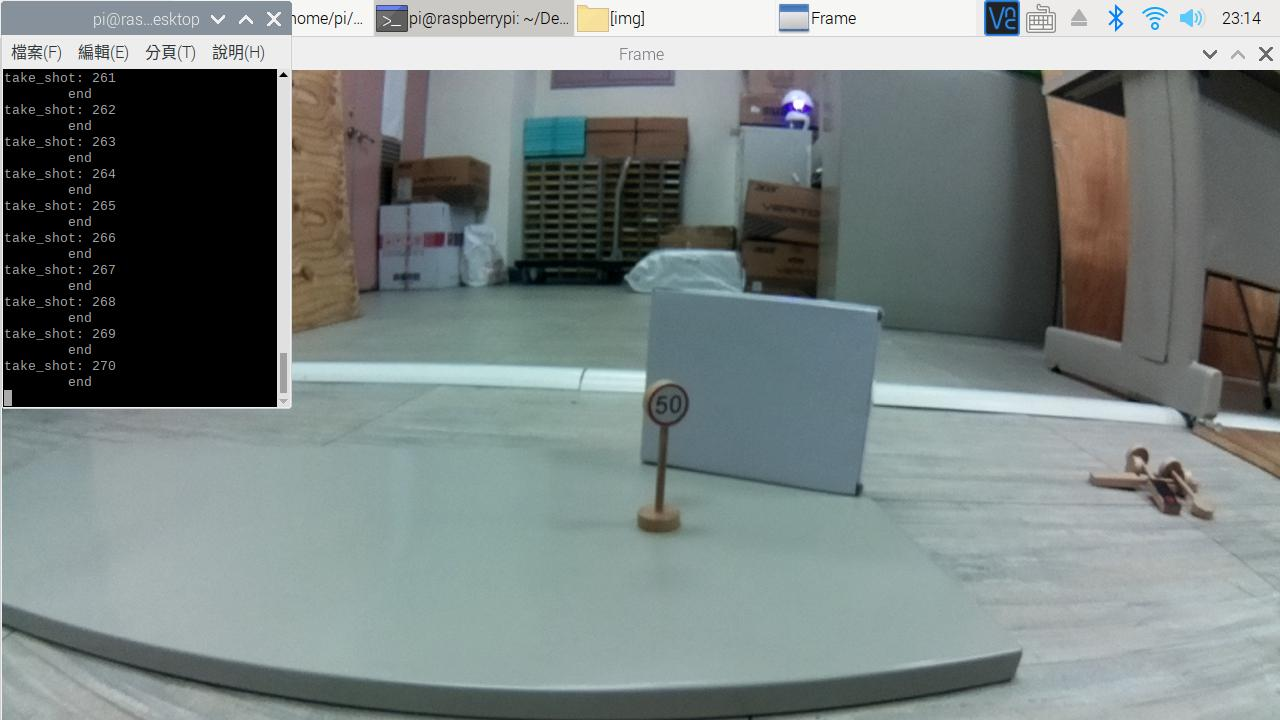Speed50: (633, 369, 707, 442)
